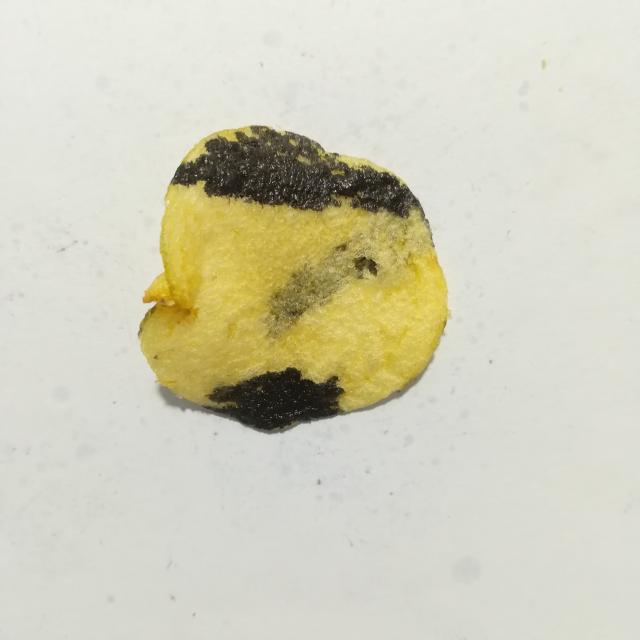chip: (138, 126, 447, 430)
damaged: (171, 126, 422, 217), (209, 368, 344, 431)
semi-damaged: (266, 207, 434, 345)
